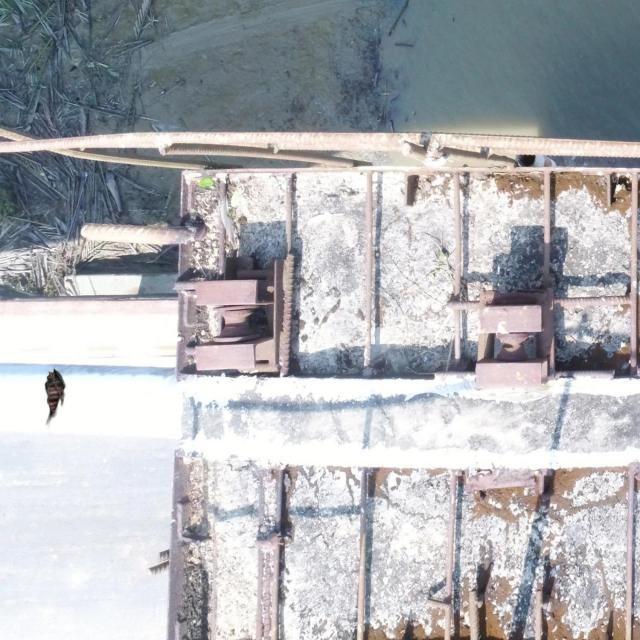corrosion: (42, 366, 68, 429)
